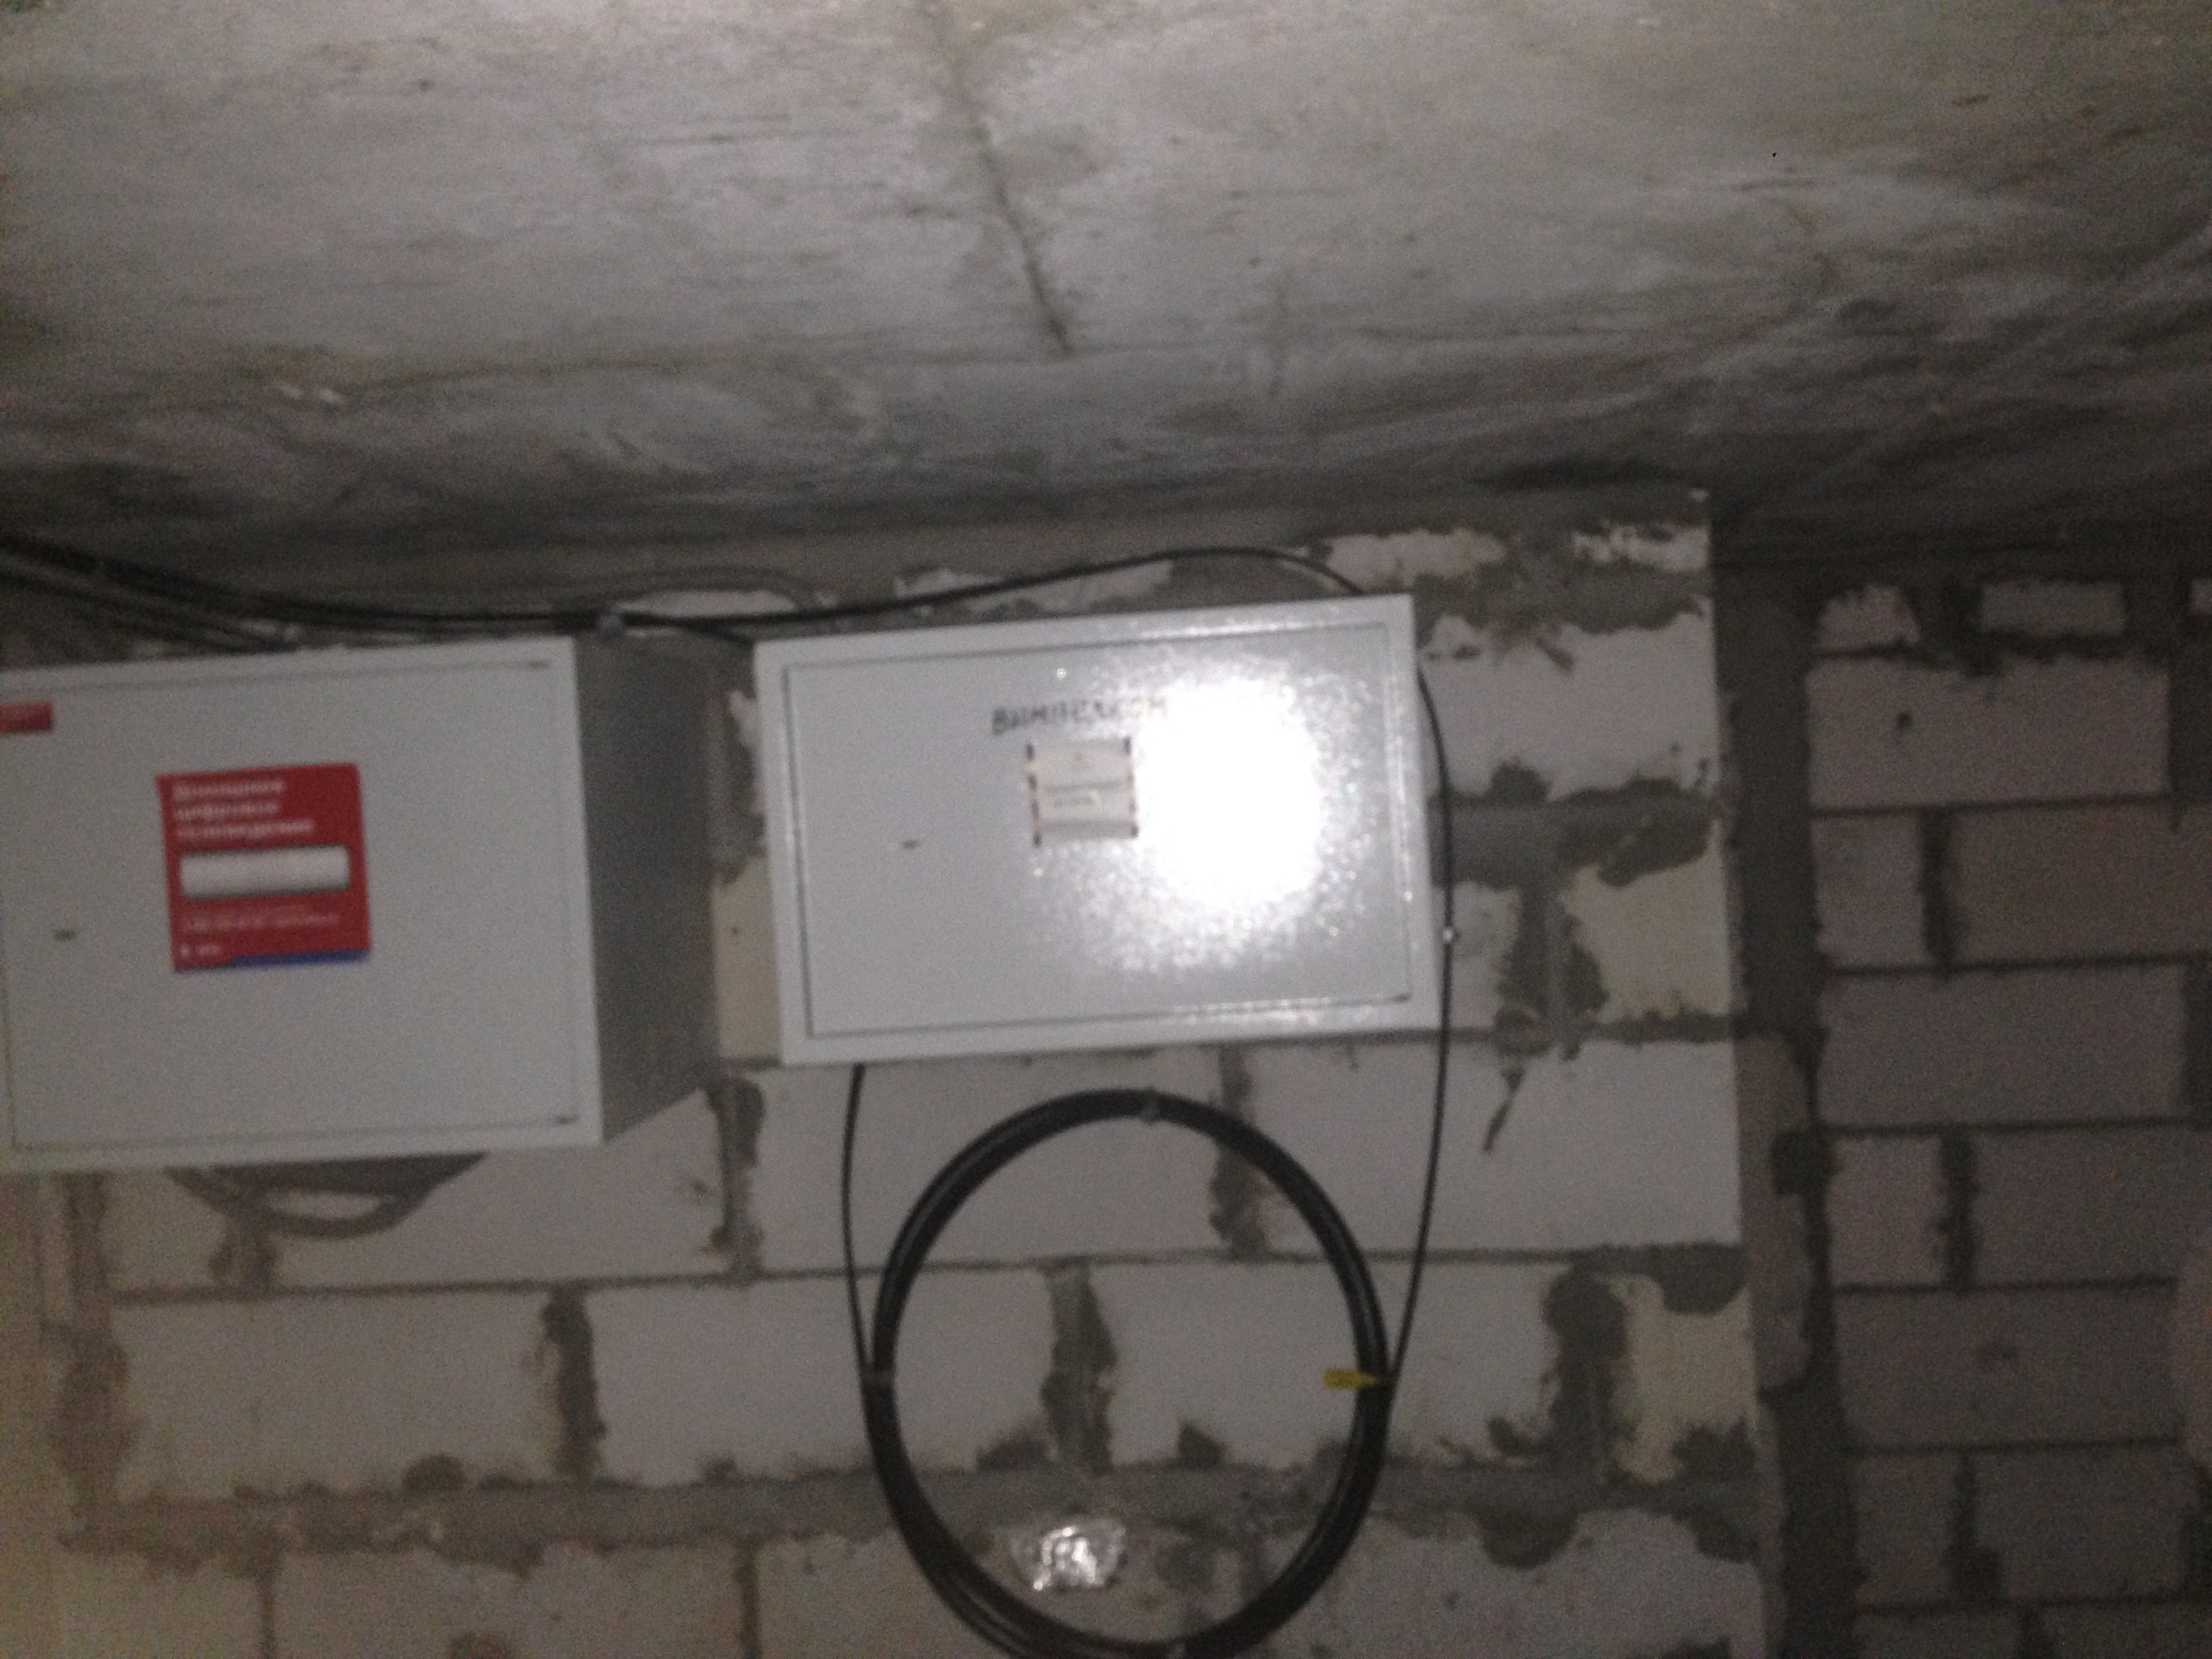shta-7m: (745, 573, 1453, 1084)
